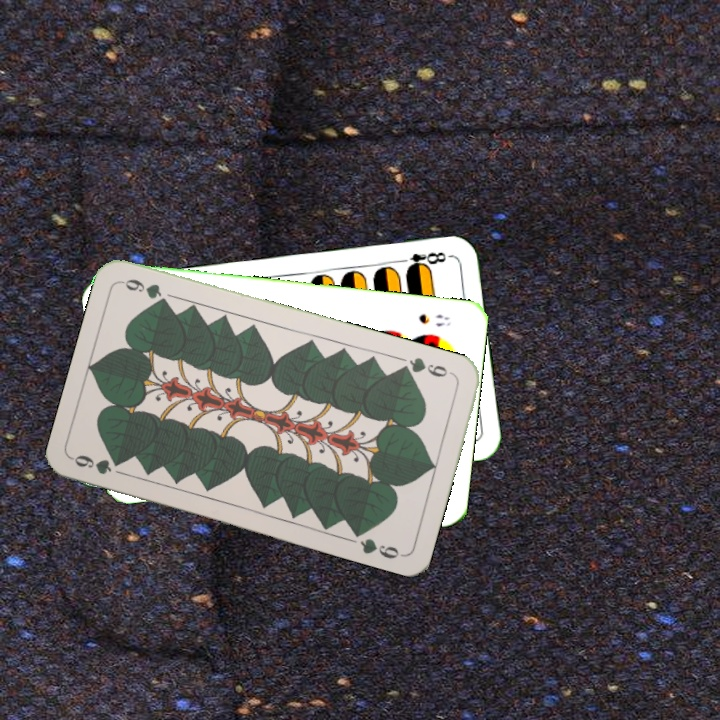E8: (394, 247, 448, 274)
G9: (396, 353, 457, 380), (69, 450, 125, 477)
S8: (414, 310, 453, 329)
